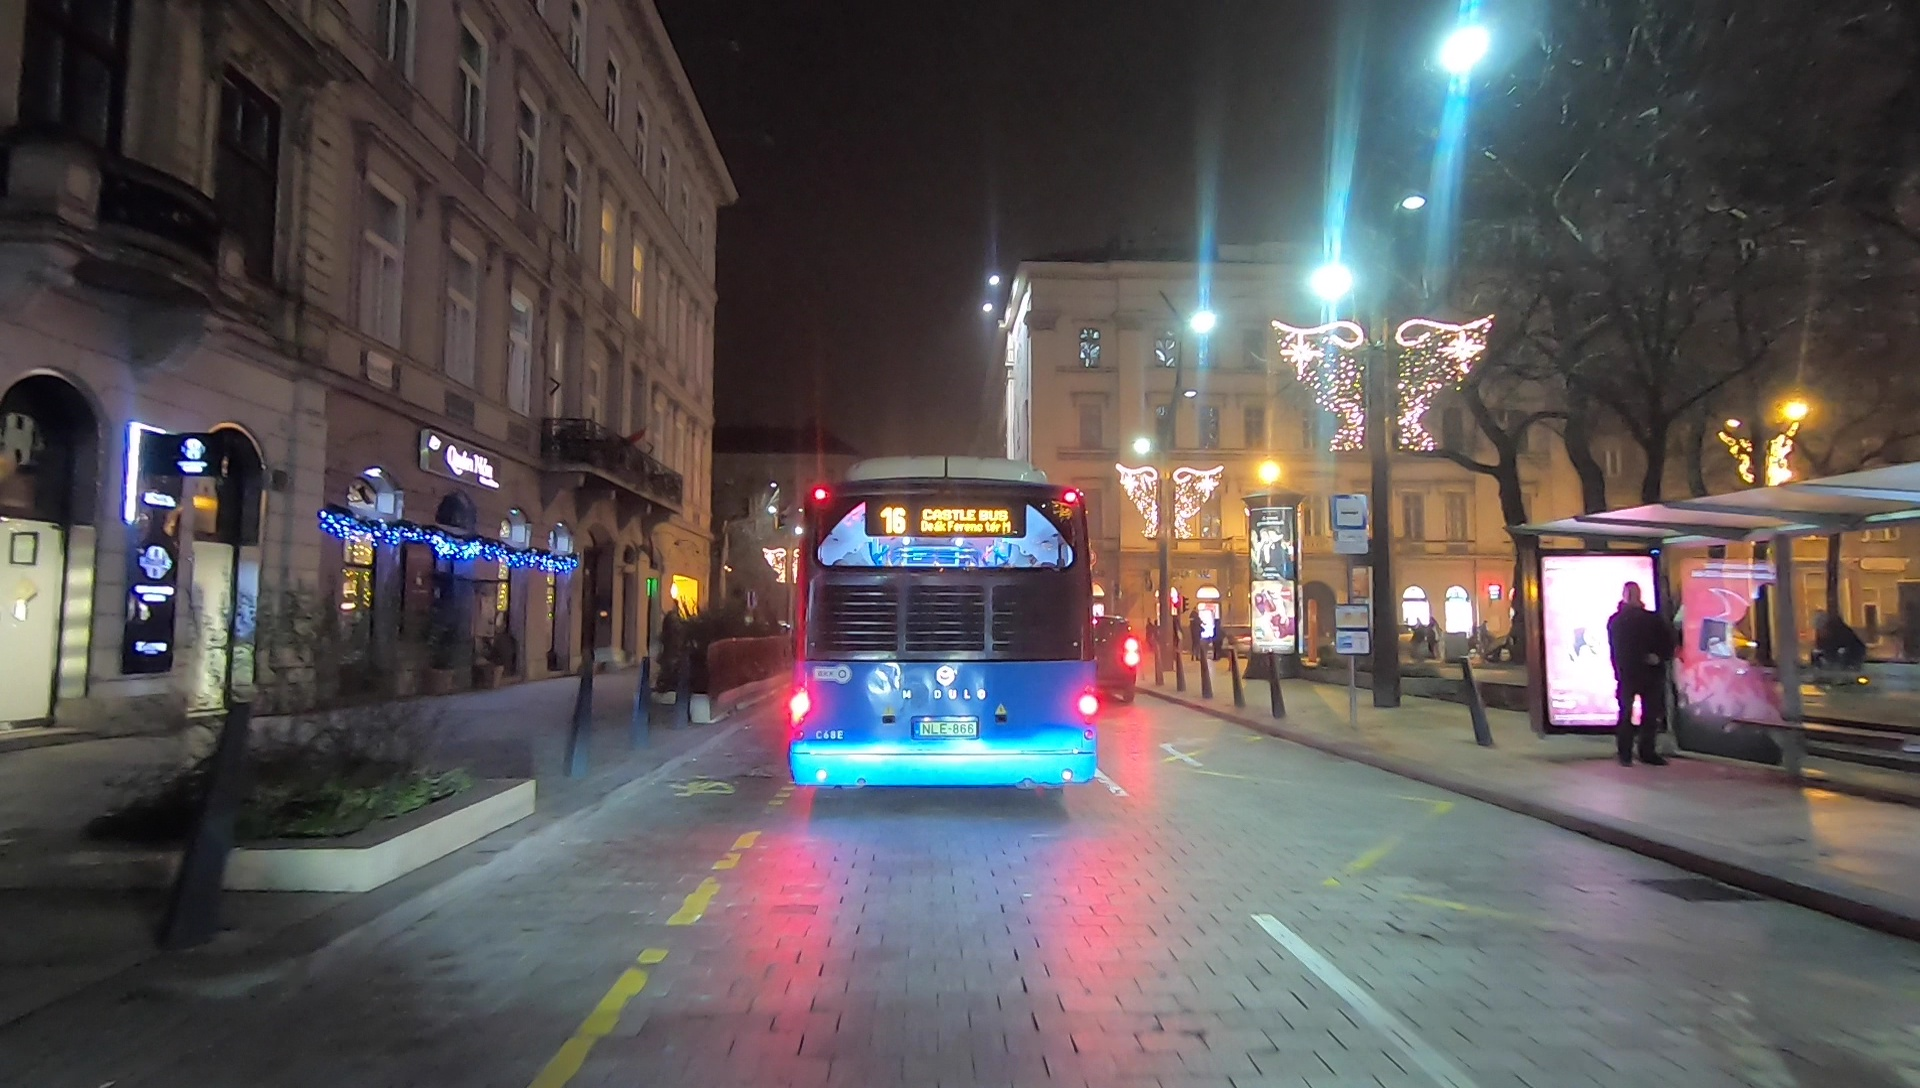person: (1610, 580, 1671, 765)
